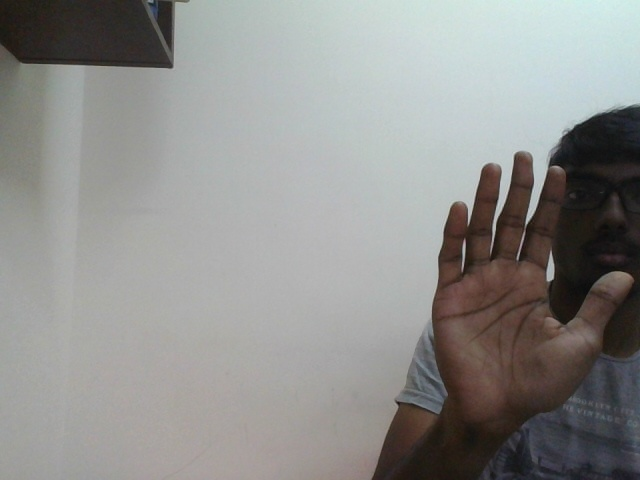Hello: (432, 152, 635, 421)
